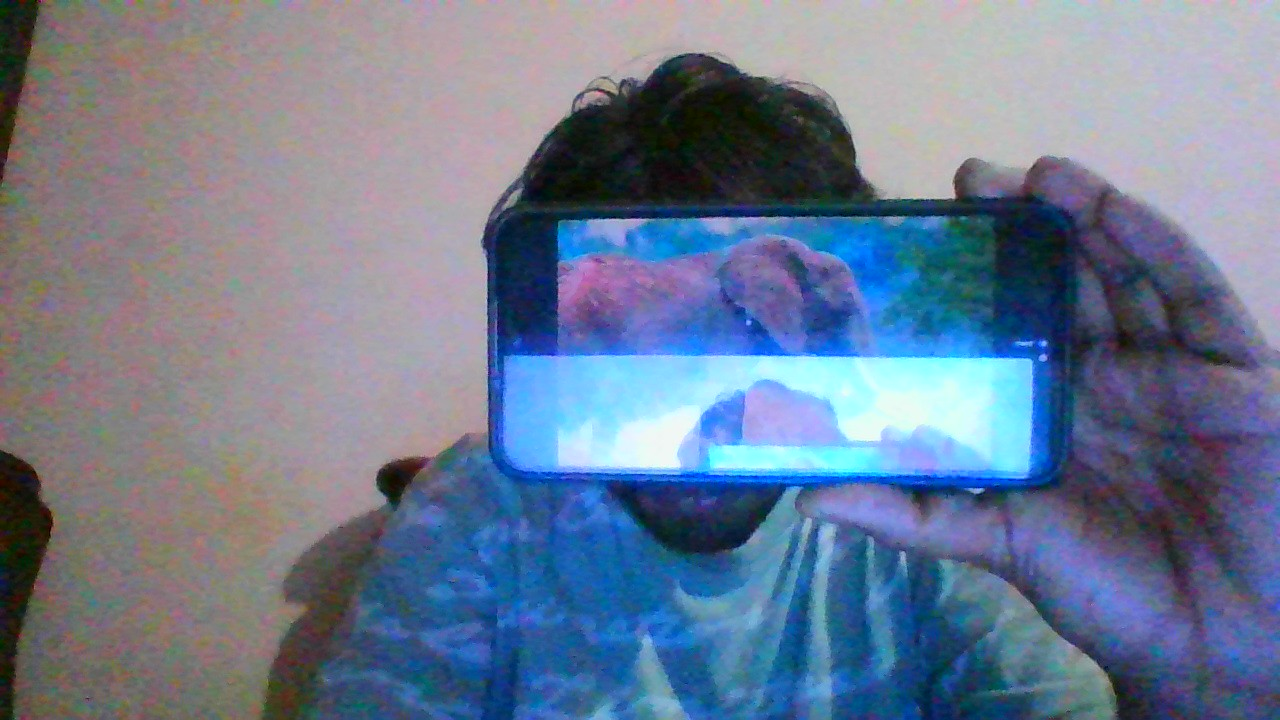elephant: (558, 235, 872, 354), (677, 379, 989, 472), (677, 380, 863, 468)
